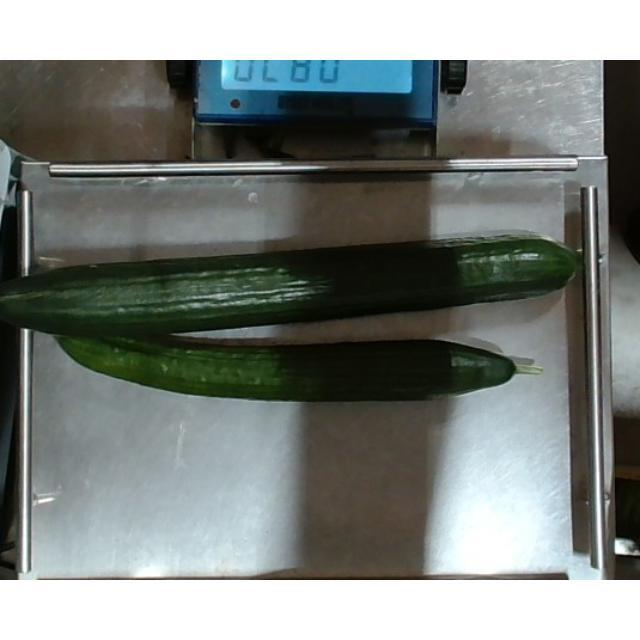cucumber: (1, 230, 588, 332), (57, 330, 540, 400)
